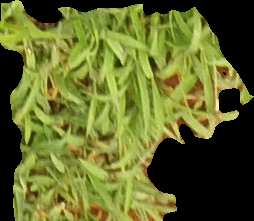grass: (1, 1, 253, 220)
